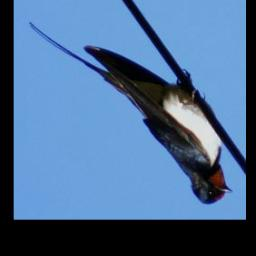Swallow: (25, 21, 233, 206)
